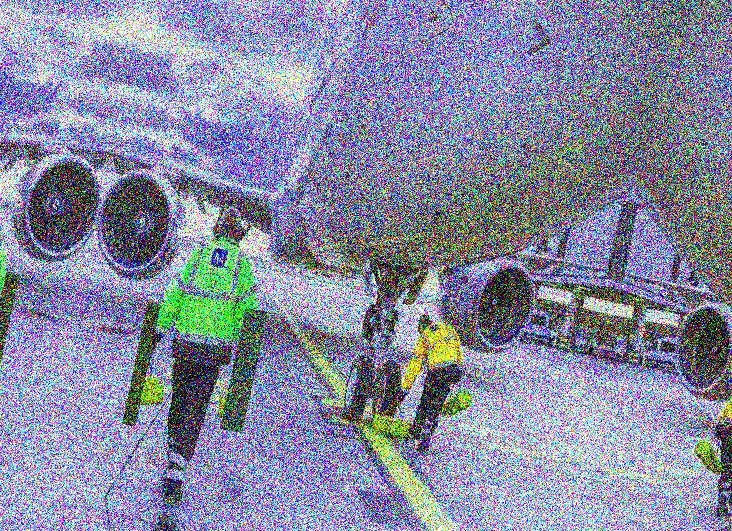chock: (215, 367, 256, 427), (124, 362, 171, 413), (436, 384, 476, 425), (690, 437, 730, 478), (370, 412, 413, 442)
wheel: (339, 351, 377, 424), (367, 357, 406, 424), (360, 302, 381, 340), (388, 307, 401, 329)
